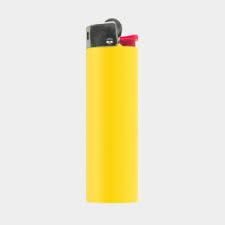lighter: (86, 16, 138, 206)
